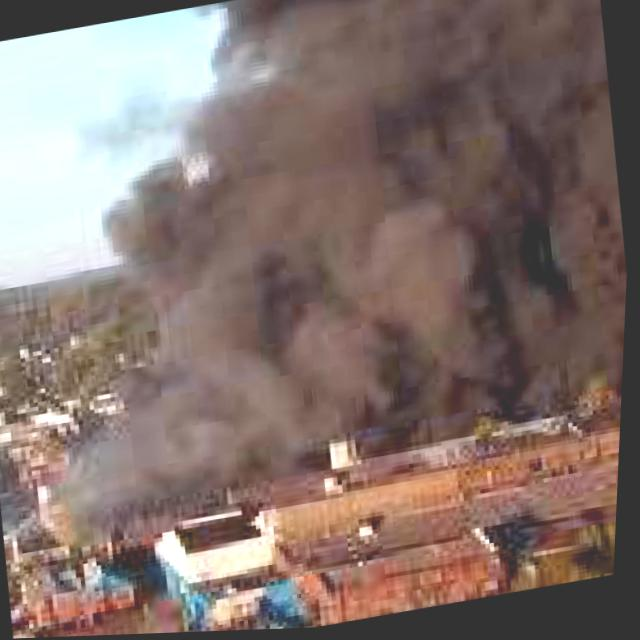smoke: (0, 0, 640, 517)
